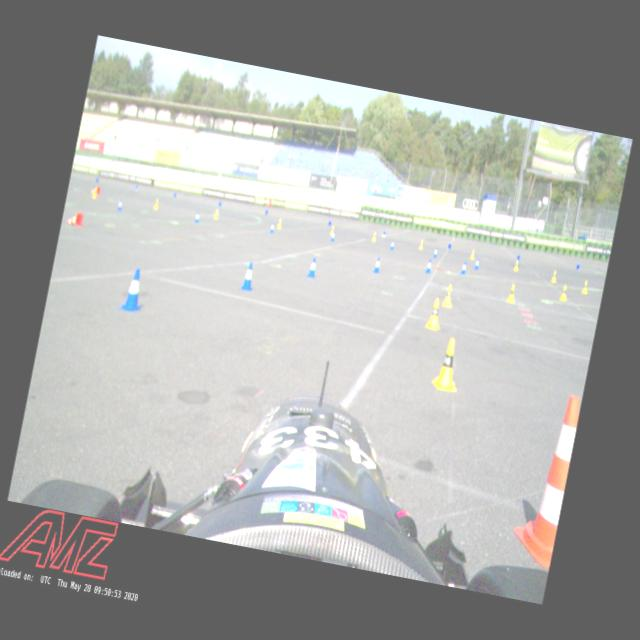blue_cone: (119, 266, 148, 314), (240, 260, 256, 292), (307, 256, 319, 278), (373, 256, 382, 274), (424, 259, 434, 275), (116, 198, 124, 212), (460, 261, 468, 275), (194, 212, 202, 224), (474, 257, 481, 270), (269, 222, 275, 234), (433, 247, 439, 259), (330, 231, 336, 242), (390, 240, 394, 250), (575, 264, 581, 270), (516, 254, 521, 261), (448, 243, 452, 250), (328, 220, 332, 226)
large_orange_cone: (512, 390, 582, 568), (66, 210, 85, 228)
orange_cone: (90, 184, 102, 197)
yellow_cone: (432, 336, 466, 394), (426, 297, 444, 331), (442, 283, 456, 308), (506, 282, 518, 304), (558, 284, 570, 302), (581, 279, 590, 295), (550, 270, 558, 284), (513, 259, 521, 273), (152, 198, 160, 210), (213, 208, 220, 220), (92, 187, 98, 200), (419, 238, 425, 250), (276, 218, 282, 230), (470, 248, 476, 260), (372, 232, 378, 242), (330, 225, 335, 235)
